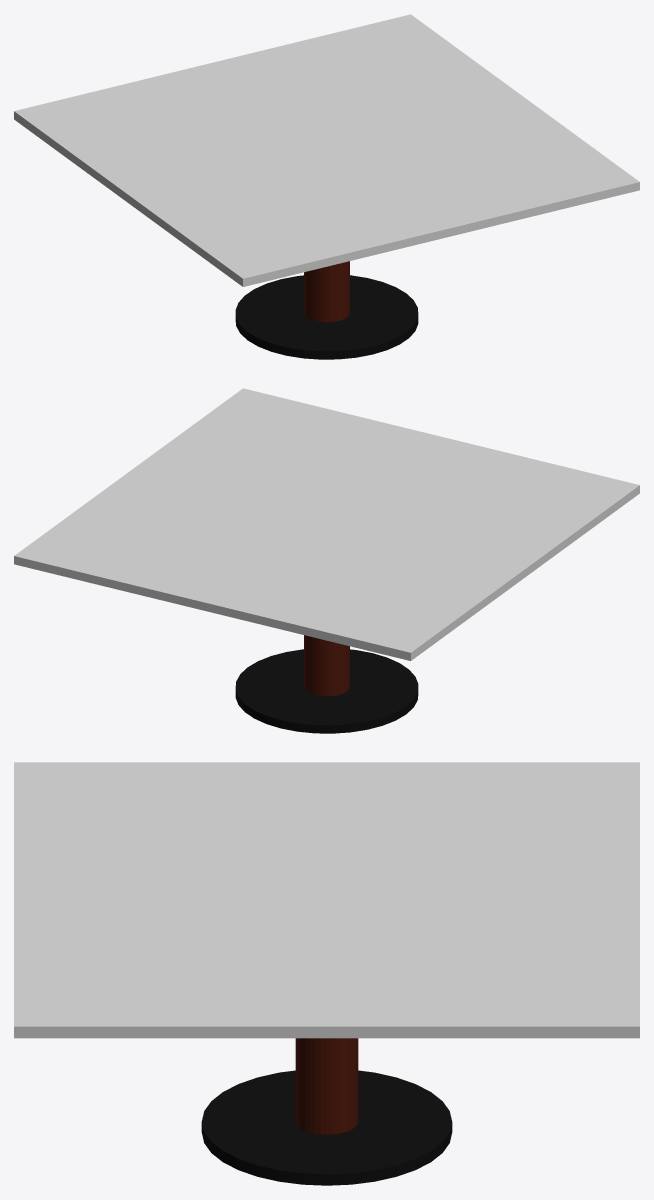
File: Tisdh01.gltf
3 views of the same model, one above another, from view 1: azimuth 30°, elevation 25°; view 2: azimuth 150°, elevation 25°; view 3: azimuth 270°, elevation 25° (orthographic). The views are drawn at different scales.
Parts seen in each view (by area): view 1: Cube, Cylinder, Cylinder.001; view 2: Cube, Cylinder, Cylinder.001; view 3: Cube, Cylinder, Cylinder.001.
Boxes of the visible parts, box(x1,y1,x2,y2) form: Cube: box(14, 14, 639, 286); Cylinder: box(235, 275, 418, 359); Cylinder.001: box(304, 261, 349, 322); Cube: box(14, 388, 639, 660); Cylinder: box(235, 649, 418, 733); Cylinder.001: box(304, 635, 349, 696); Cube: box(14, 762, 639, 1038); Cylinder: box(201, 1070, 452, 1185); Cylinder.001: box(295, 1038, 358, 1134).
Size of the model in its own units: 1 by 0.42 by 1.
